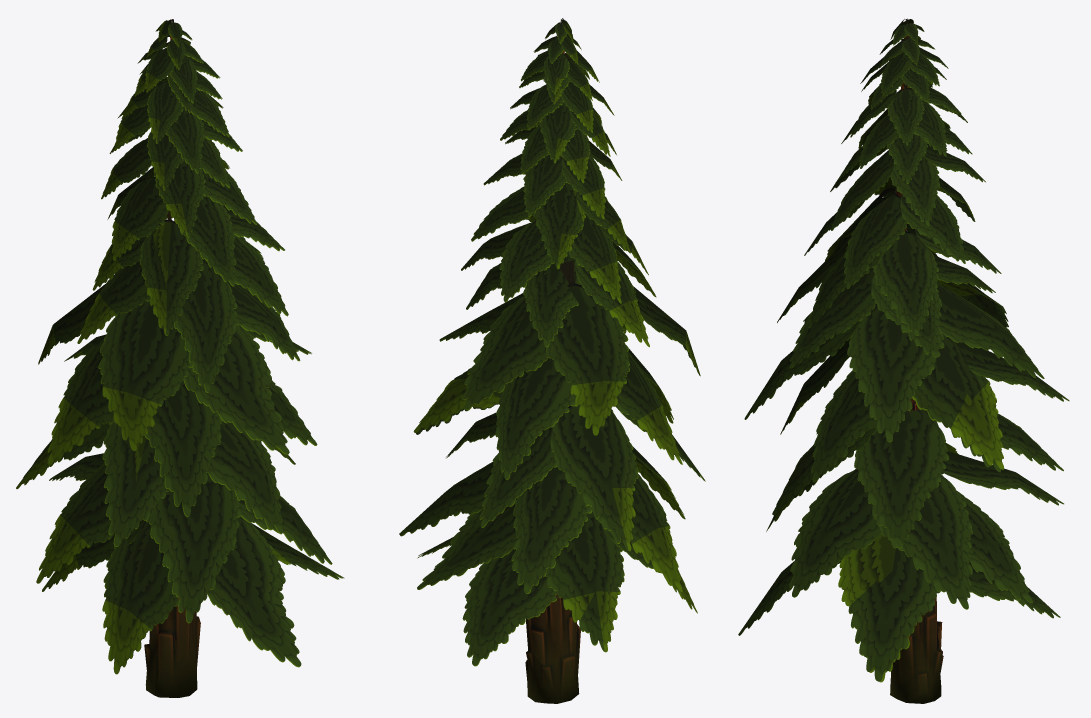
File: tree.fbx
3 renders of one model, left to right at view 1: azimuth 30°, elevation 25°; view 2: azimuth 150°, elevation 25°; view 3: azimuth 270°, elevation 25°, orthographic.
Visible parts, largest first — view 1: Fantesy tree, tree4.low; view 2: Fantesy tree, tree4.low; view 3: Fantesy tree, tree4.low.
Boxes of the visible parts, x1=… form: Fantesy tree: x1=16, y1=19, x2=344, y2=674; tree4.low: x1=144, y1=36, x2=200, y2=697; Fantesy tree: x1=399, y1=18, x2=705, y2=666; tree4.low: x1=525, y1=51, x2=580, y2=703; Fantesy tree: x1=738, y1=18, x2=1069, y2=682; tree4.low: x1=890, y1=35, x2=943, y2=703.
Size of the model in its own units: 383 by 855 by 391.
